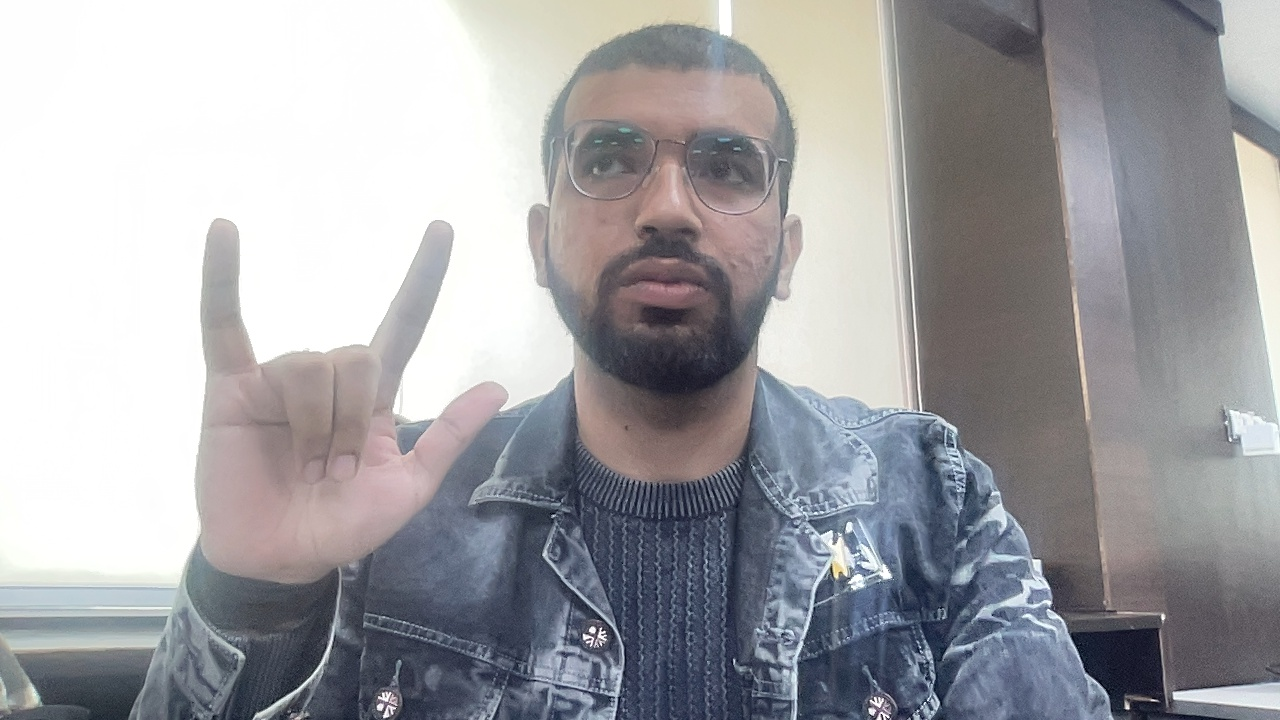I Love You: (128, 183, 545, 568)
